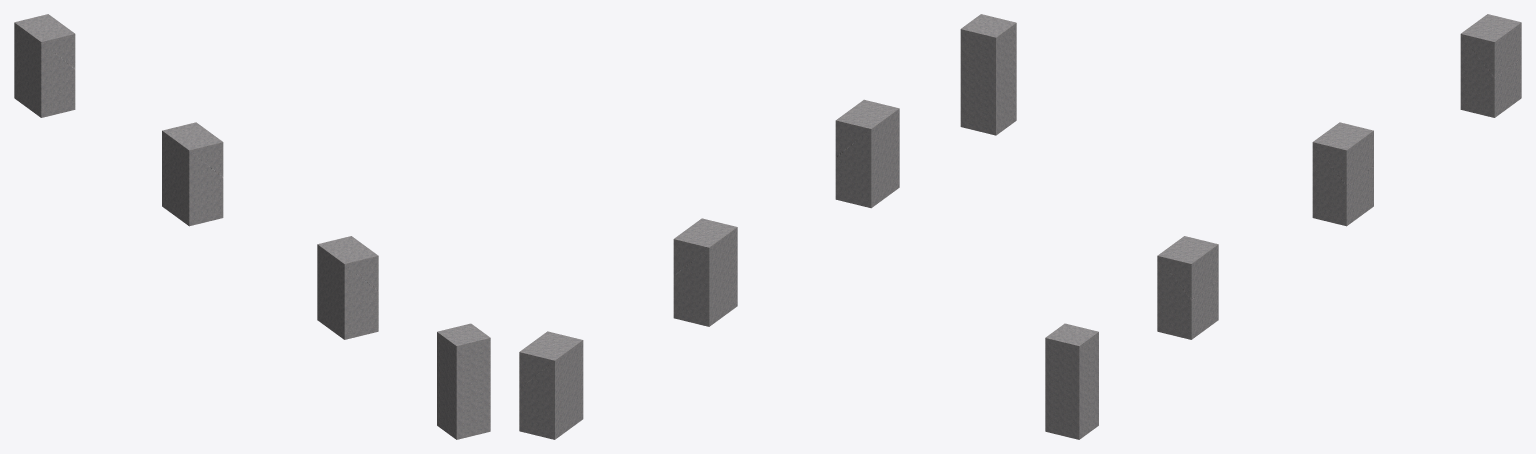
3 views of the same model, side by side, from view 1: azimuth 30°, elevation 25°; view 2: azimuth 150°, elevation 25°; view 3: azimuth 330°, elevation 25° (orthographic). The views are drawn at different scales.
Visible parts, largest first — view 1: 0_0_2_2_1_1_0_0; view 2: 0_0_2_2_1_1_0_0; view 3: 0_0_2_2_1_1_0_0.
Part boxes in pixels (left/top/right/bottom): 0_0_2_2_1_1_0_0: left=14, top=14, right=490, bottom=439; 0_0_2_2_1_1_0_0: left=519, top=14, right=1016, bottom=439; 0_0_2_2_1_1_0_0: left=1045, top=14, right=1521, bottom=439.
Size of the model in its own units: 0.8003 by 2.1 by 17.95.
Materials: 4 (4 with a texture image).
